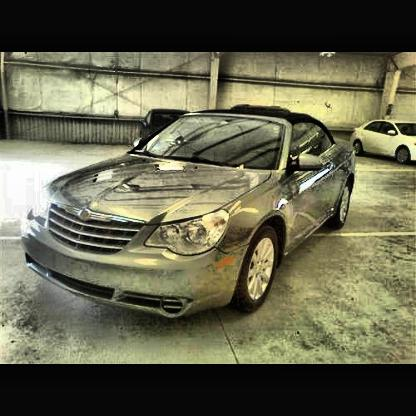Chrysler Sebring Convertible 2010: (21, 108, 360, 324)
